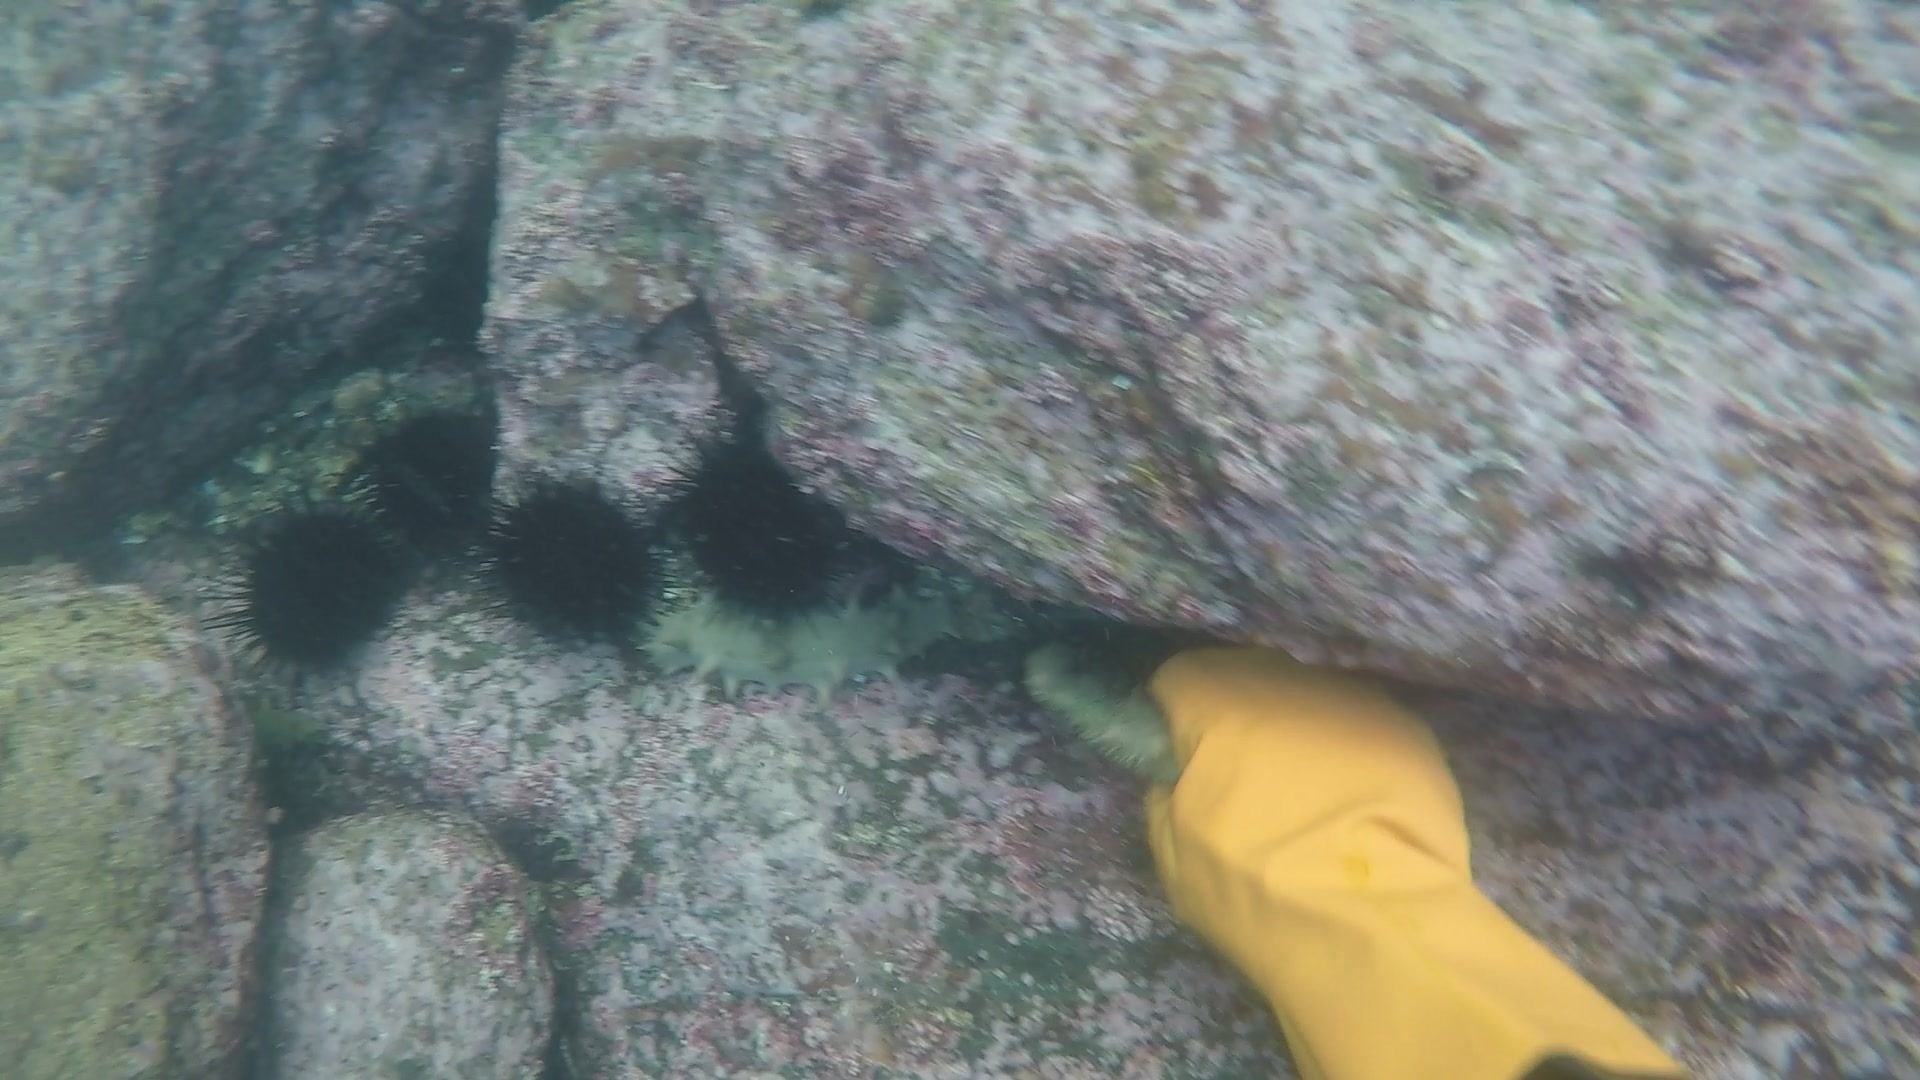echinus: (218, 505, 398, 684), (666, 430, 840, 615), (480, 485, 676, 645), (348, 397, 513, 553)
holothurian: (651, 576, 997, 694)
